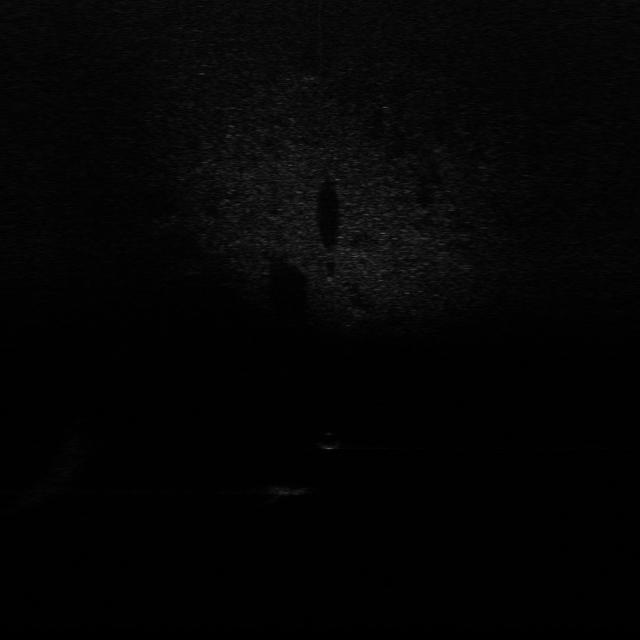ball: (316, 430, 343, 452)
square cage: (254, 480, 322, 498)
